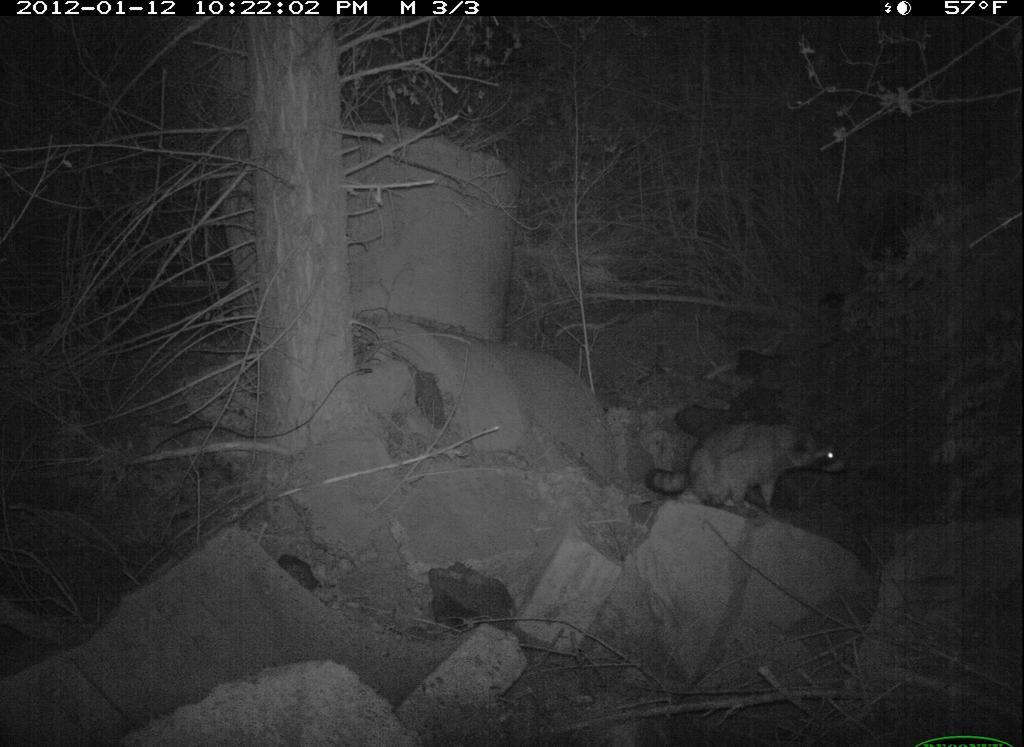raccoon: (647, 410, 854, 521)
